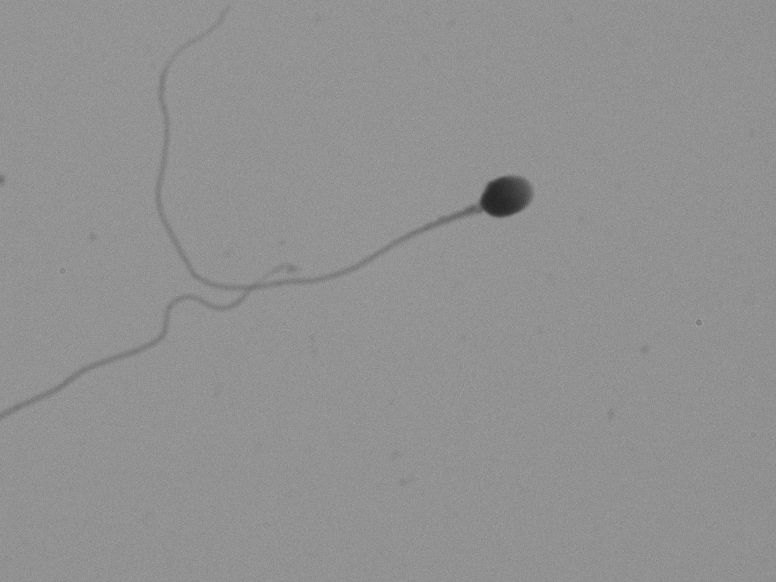Normal: (123, 21, 582, 309)
